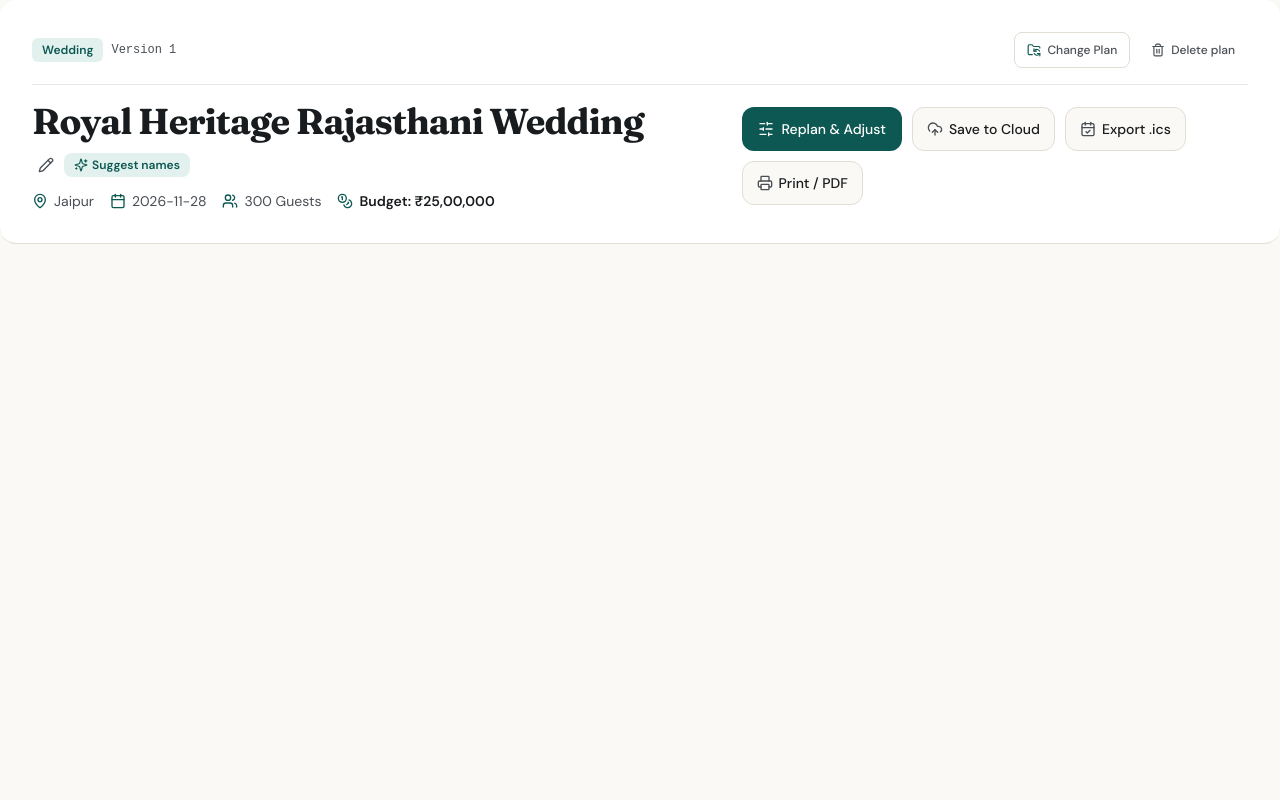
Test case: Workspace Actions (Delete Plan, Change Plan, Inline Title Edit) › navigates to saved plans when Change Plan is clicked
The image size is (1280, 800).
Click the button "Change Plan".
click(1072, 50)  # box [1014,32,1130,68]
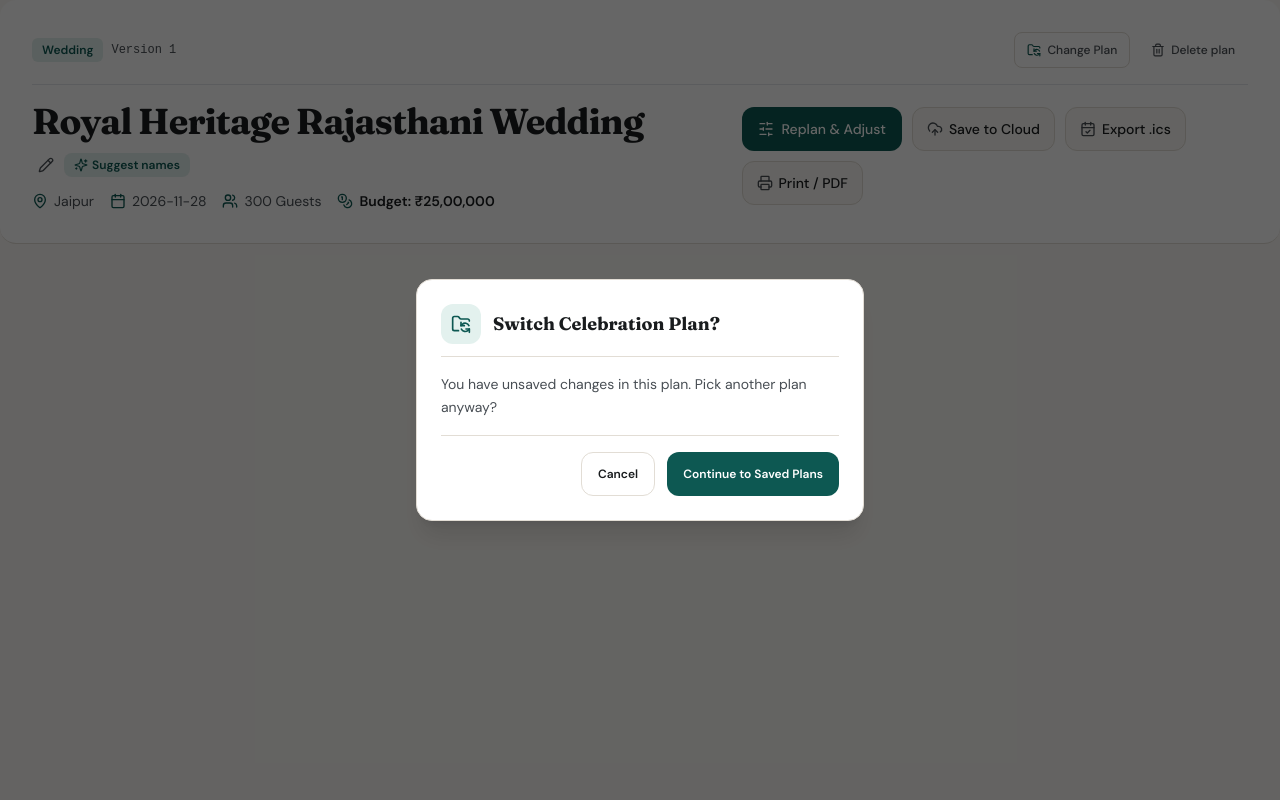
Now the dialog "Switch Celebration Plan?" is shown, box [416,279,864,521]
